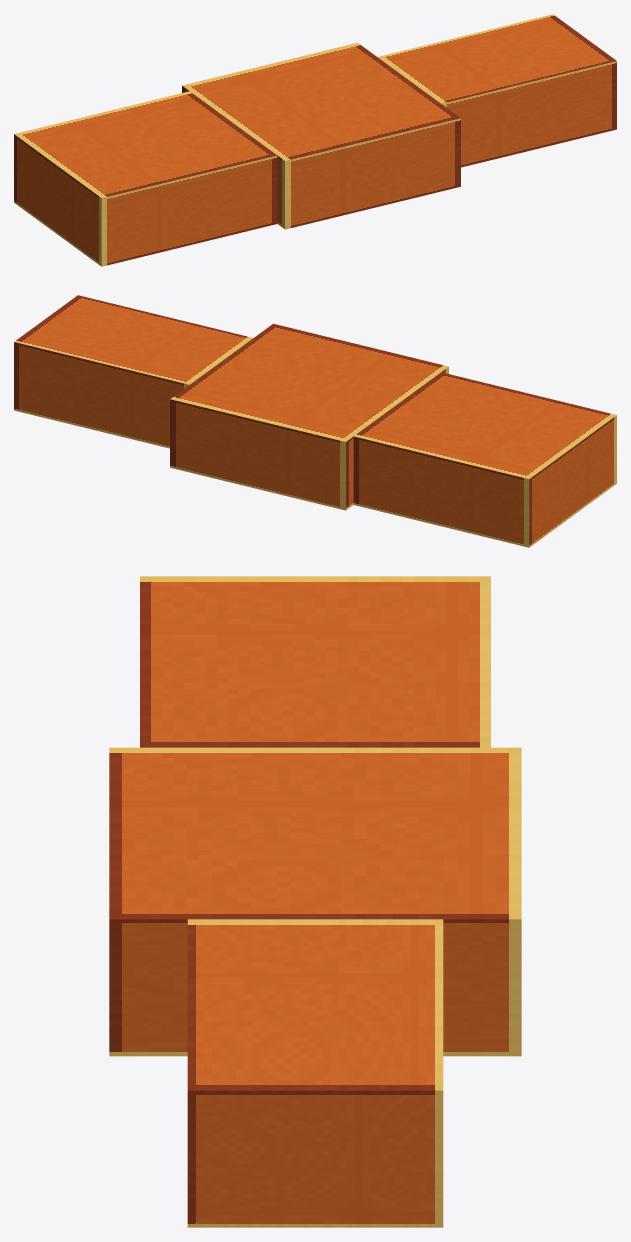
The model's file is bench_jindan_jinwu_sword_0_hot.obj.
3 renders of one model, top to bottom at view 1: azimuth 30°, elevation 25°; view 2: azimuth 150°, elevation 25°; view 3: azimuth 270°, elevation 25°, orthographic. The views are drawn at different scales.
Parts seen in each view (by area): view 1: geometry; view 2: geometry; view 3: geometry.
Part boxes in pixels (x1=…): geometry: x1=14, y1=14, x2=616, y2=266; geometry: x1=14, y1=295, x2=616, y2=547; geometry: x1=109, y1=576, x2=521, y2=1227.
Size of the model in its own units: 0.75 by 0.0932 by 0.2542.
